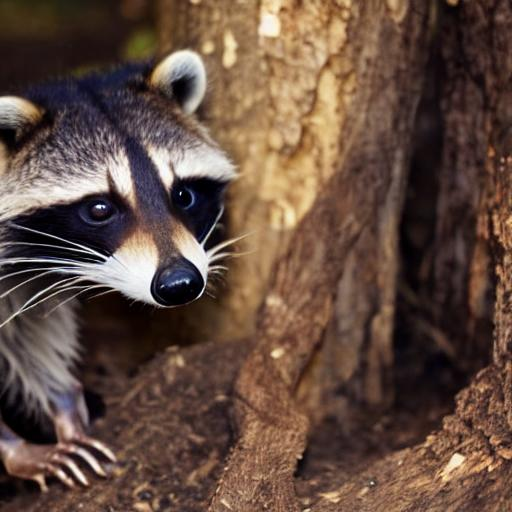raccoon: (0, 39, 246, 417)
